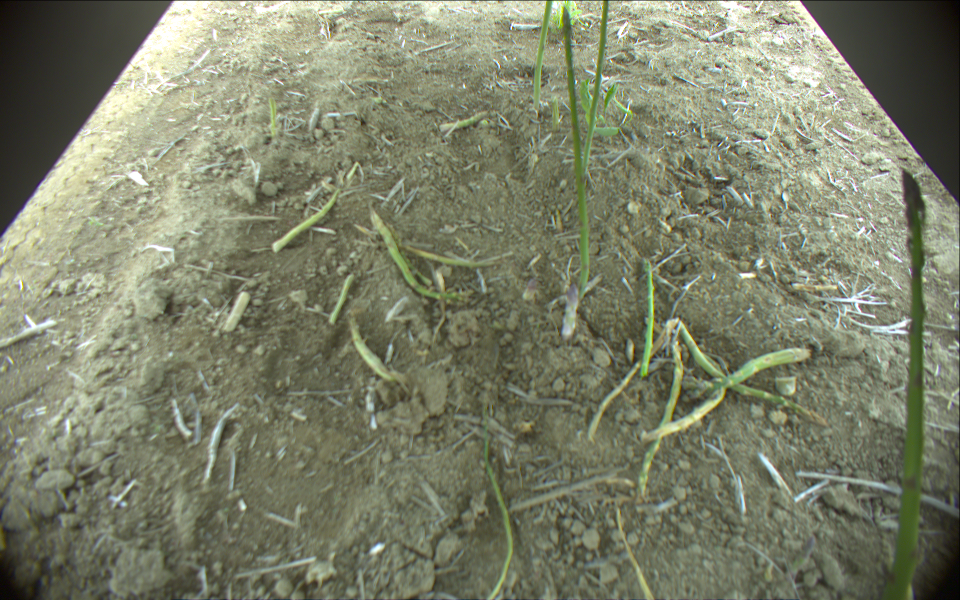aspa: (638, 316, 822, 498), (886, 168, 930, 599), (638, 344, 810, 442), (561, 6, 598, 297), (371, 211, 458, 300), (474, 406, 513, 600), (267, 185, 342, 253), (585, 1, 609, 172), (531, 1, 556, 110), (351, 322, 394, 382), (405, 243, 513, 266), (323, 272, 356, 326), (438, 107, 498, 134), (224, 291, 250, 336), (562, 284, 581, 339), (644, 262, 652, 379), (269, 93, 283, 137)
